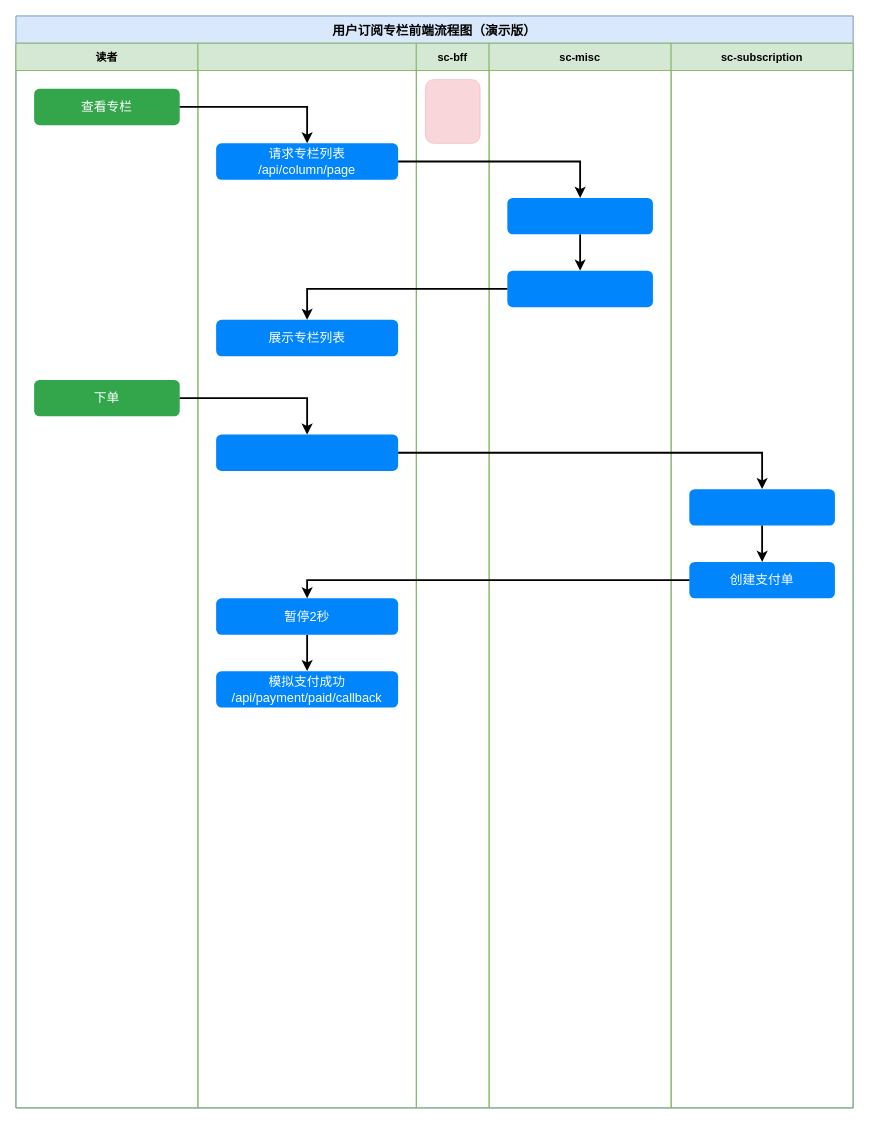
The diagram is 869 pixels wide and 1124 high, and some of its shapes have lost their labels. The shapes that lost their labels are listed below. From the top down, each one's box as (x1, y1, x2, y2) in pixels, then its label:
(425, 79, 480, 143): bff主要做转发，流程图省略
(507, 197, 652, 234): 查询专栏分页列表
(507, 270, 652, 307): 添加作者 价格 订阅 信息
(216, 434, 398, 470): 专栏下单 /api/subscription/prepare
(689, 489, 834, 525): 创建订单
(197, 42, 416, 1108): 浏览器
